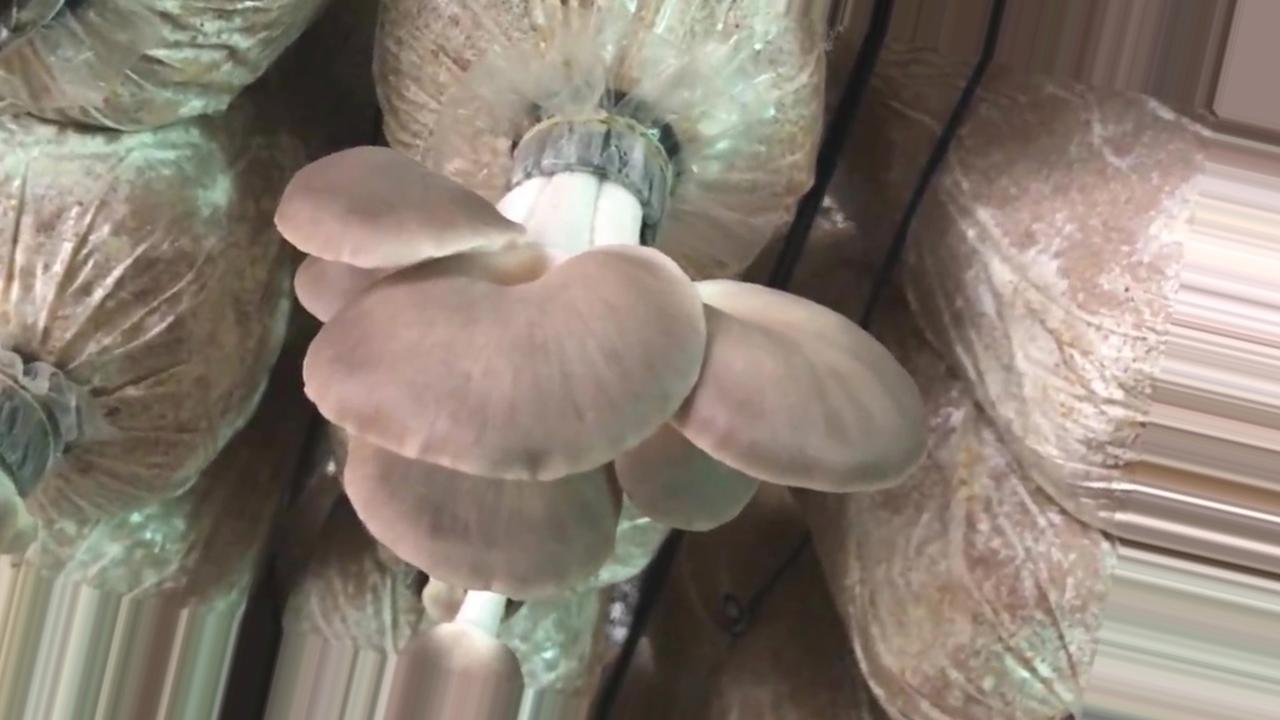nam: (274, 115, 926, 595), (387, 576, 523, 719)
